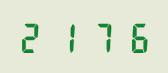one: (51, 20, 83, 53)
seven: (84, 20, 116, 53)
six: (117, 20, 149, 53)
two: (18, 20, 50, 53)
